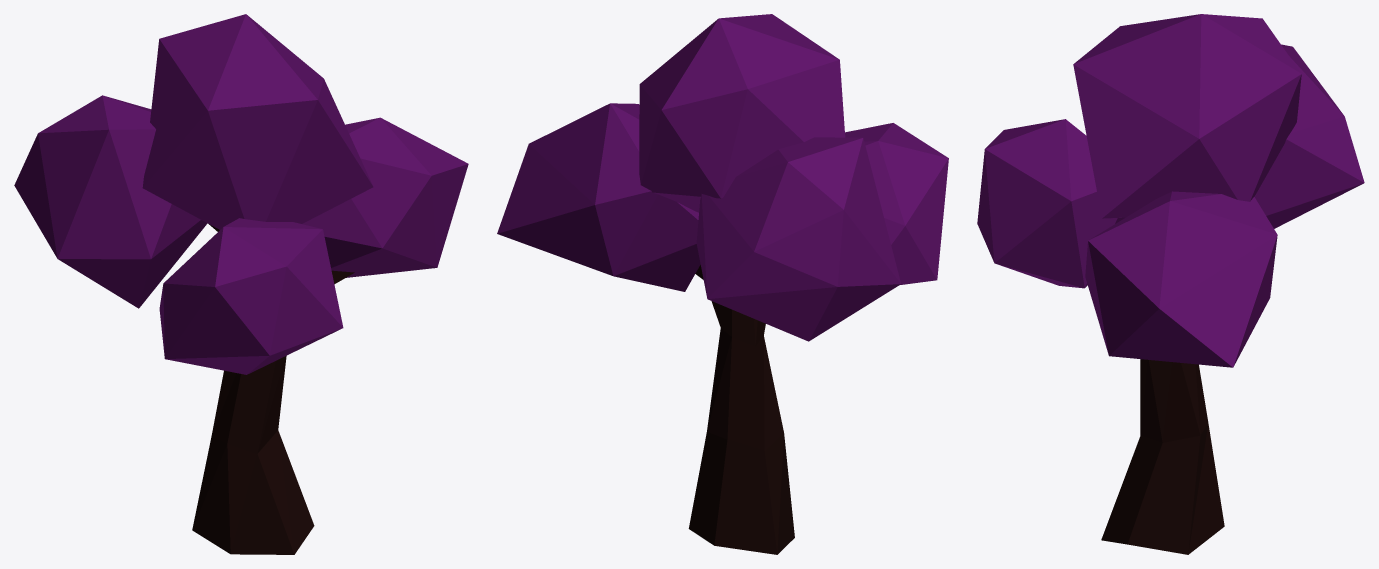
Rendered from M_PollutionTree1.FBX.
The picture shows the model from 3 angles, left to right: view 1: azimuth 30°, elevation 25°; view 2: azimuth 150°, elevation 25°; view 3: azimuth 270°, elevation 25°; orthographic projection. The views are drawn at different scales.
Parts seen in each view (by area): view 1: GeoSphere037, GeoSphere039, GeoSphere040, Cylinder010, GeoSphere038; view 2: GeoSphere039, GeoSphere037, GeoSphere038, Cylinder010, GeoSphere040; view 3: GeoSphere037, GeoSphere038, GeoSphere040, Cylinder010, GeoSphere039.
Part boxes in pixels (x1=…): GeoSphere037: x1=142, y1=14, x2=373, y2=229; GeoSphere039: x1=14, y1=95, x2=207, y2=308; GeoSphere040: x1=159, y1=218, x2=343, y2=374; Cylinder010: x1=192, y1=224, x2=354, y2=554; GeoSphere038: x1=302, y1=117, x2=468, y2=277; GeoSphere039: x1=696, y1=137, x2=900, y2=341; GeoSphere037: x1=639, y1=14, x2=845, y2=212; GeoSphere038: x1=497, y1=103, x2=700, y2=291; Cylinder010: x1=688, y1=265, x2=794, y2=554; GeoSphere040: x1=845, y1=123, x2=948, y2=284; GeoSphere037: x1=1073, y1=14, x2=1301, y2=218; GeoSphere038: x1=1085, y1=191, x2=1277, y2=367; GeoSphere040: x1=977, y1=119, x2=1124, y2=288; Cylinder010: x1=1101, y1=359, x2=1224, y2=554; GeoSphere039: x1=1254, y1=44, x2=1364, y2=228.
Bounding box in the file's own units: 306 × 388 × 257.
